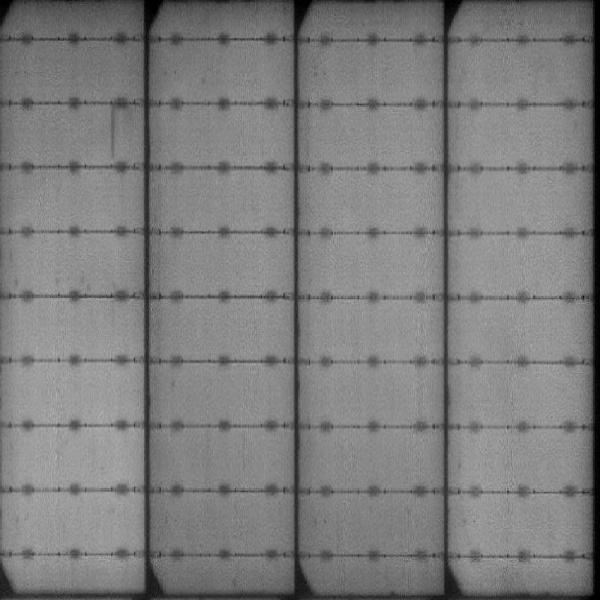scratch: (108, 103, 118, 159)
